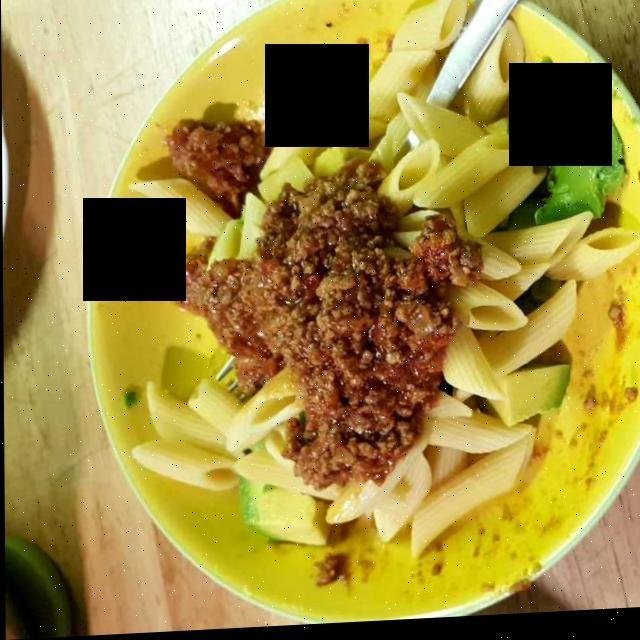avocado: (230, 77, 618, 548)
bolognaise-sauce: (166, 179, 485, 488)
pasta: (135, 21, 624, 540), (157, 192, 450, 481)
